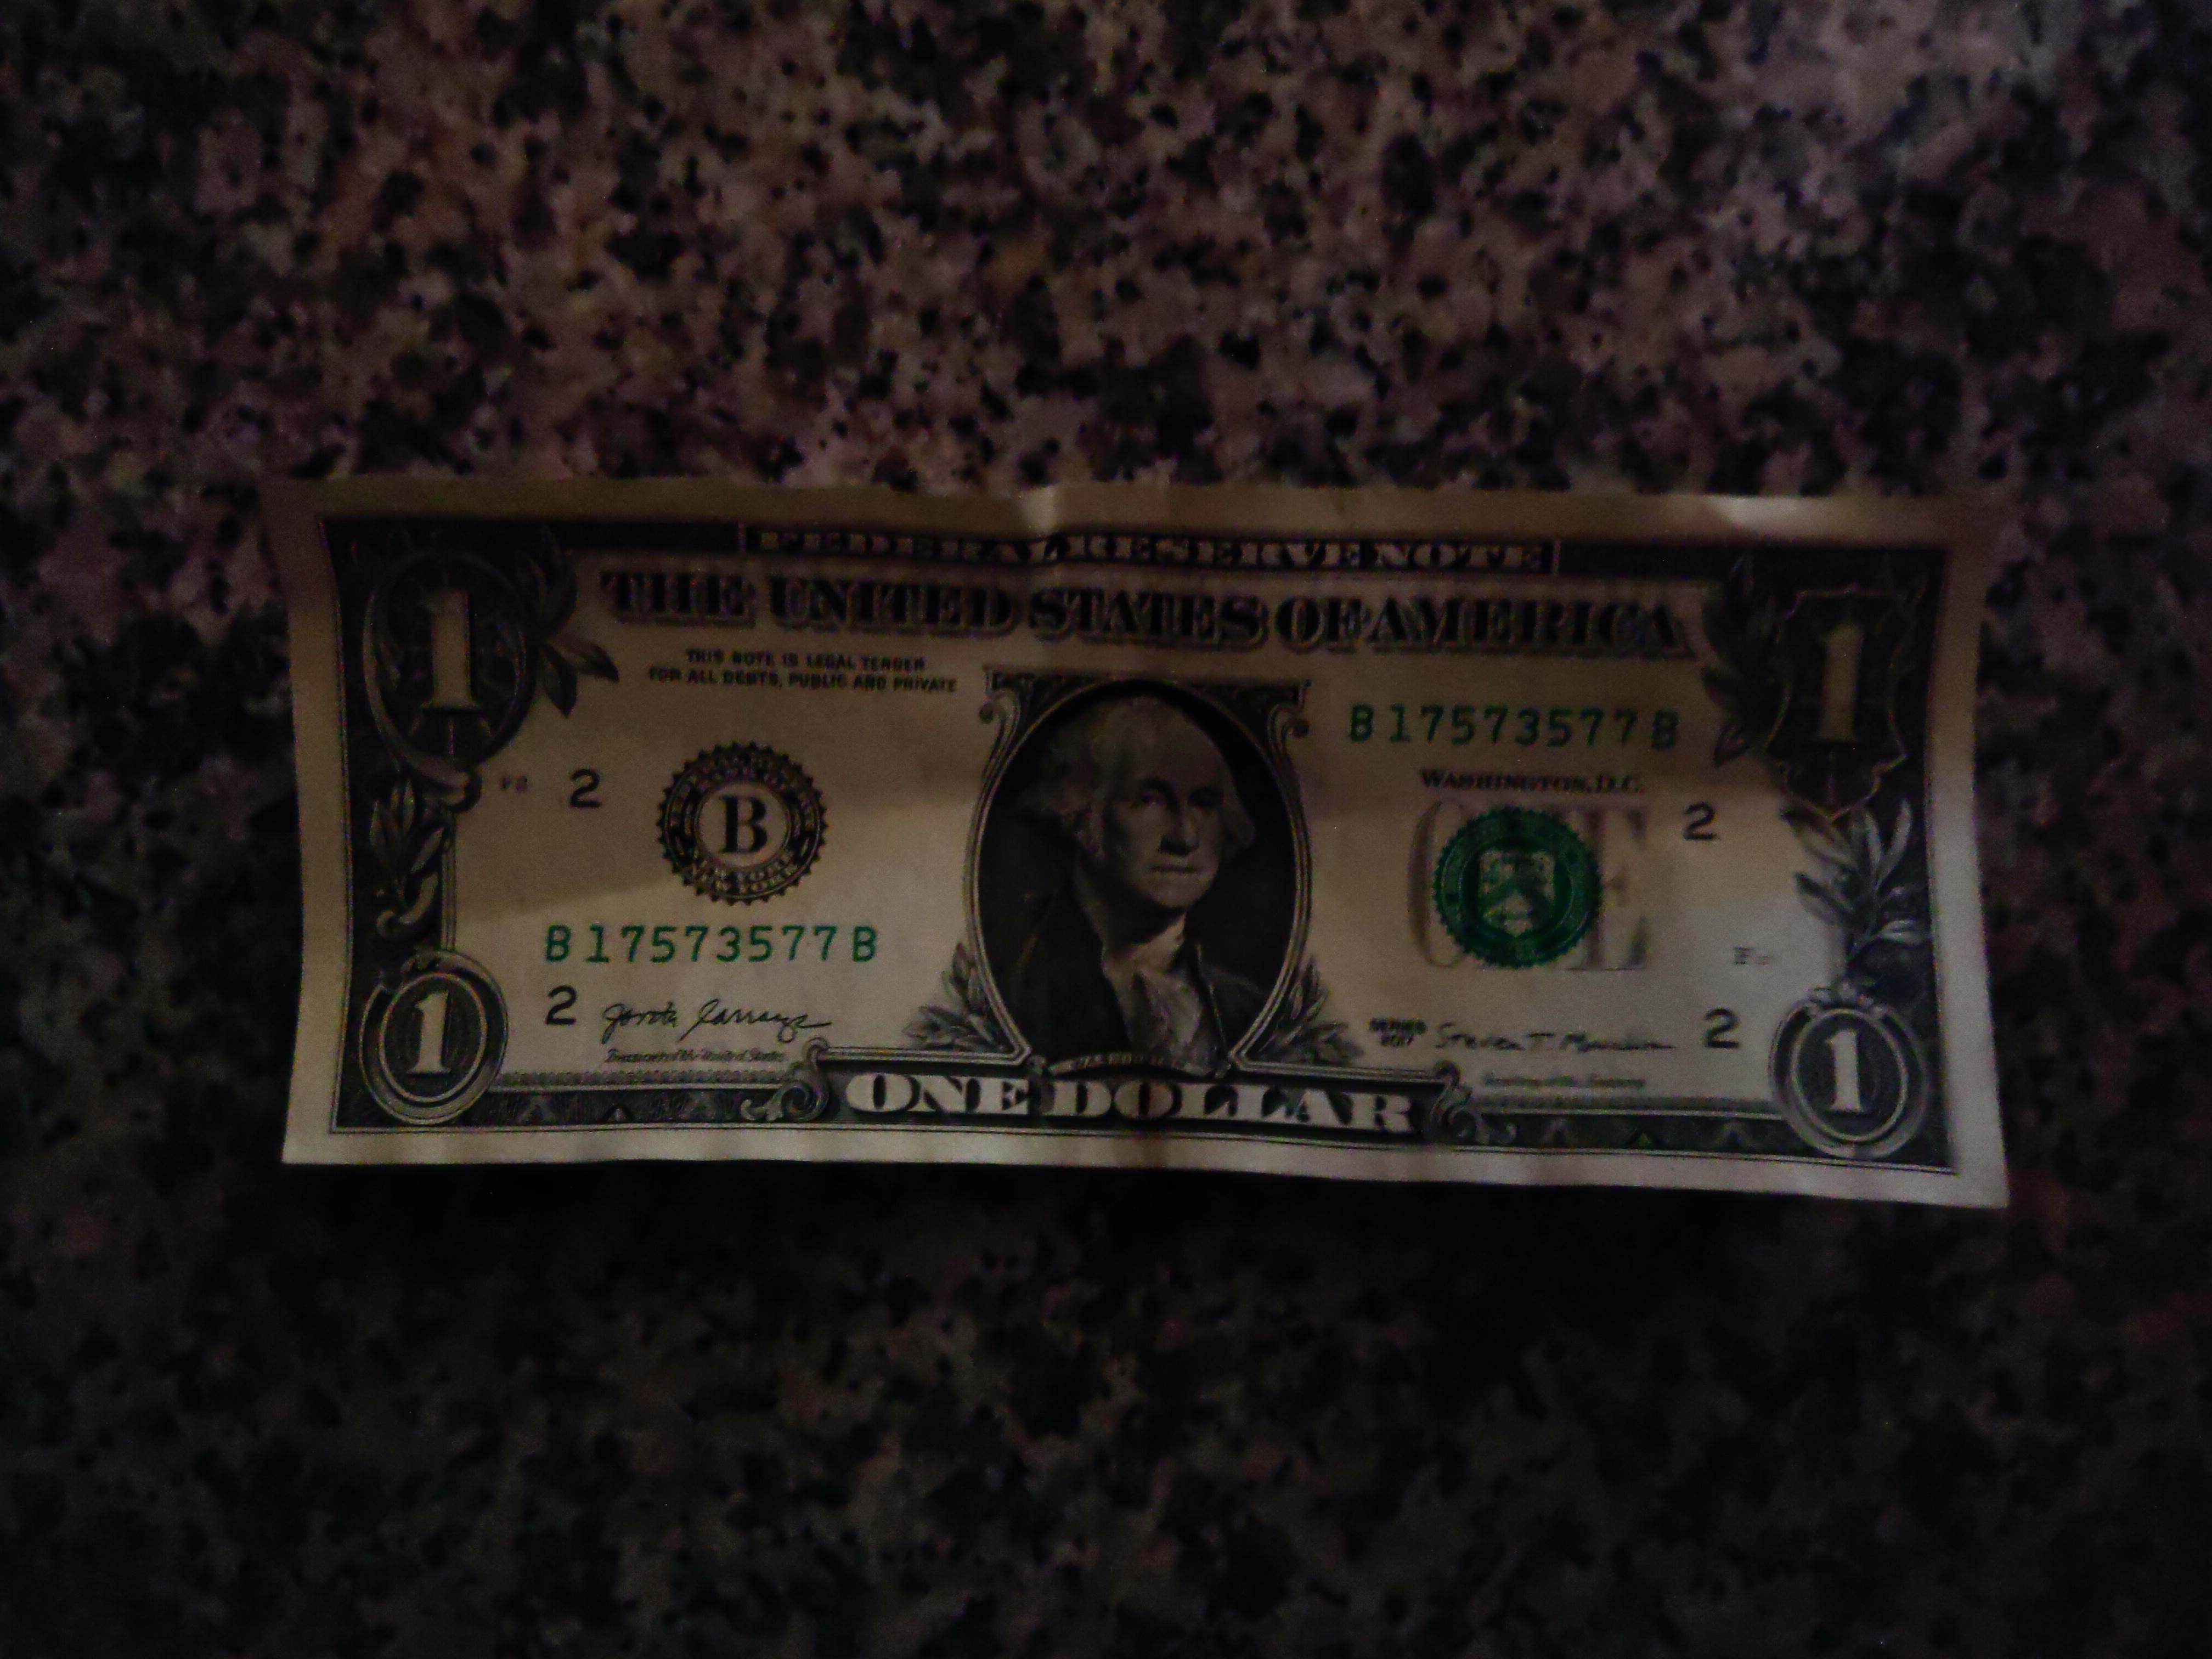OneBill: (272, 471, 2010, 1213)
